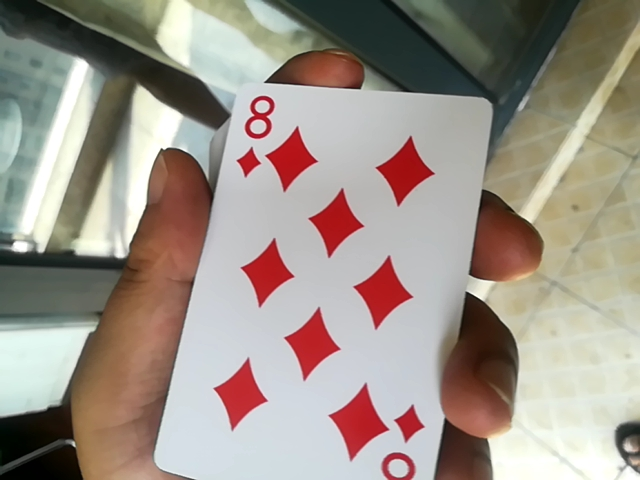fk 8: (146, 66, 472, 476)
